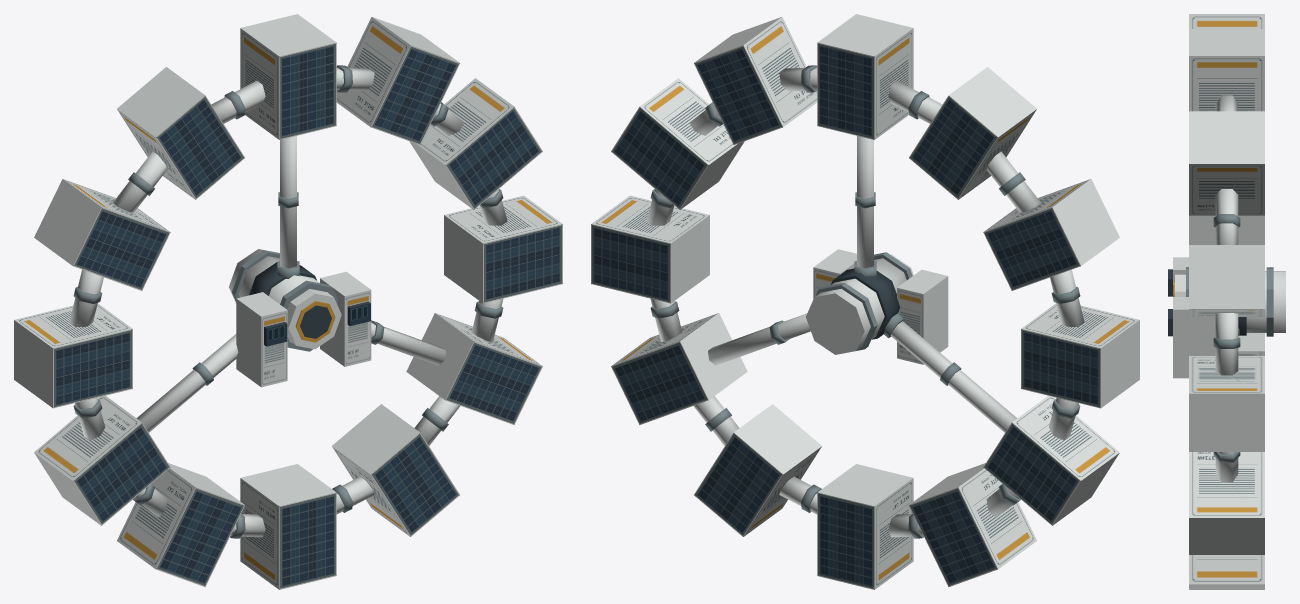
File: Space_Station_LOD2.glb
3 views of the same model, side by side, from view 1: azimuth 30°, elevation 25°; view 2: azimuth 150°, elevation 25°; view 3: azimuth 270°, elevation 25° (orthographic). The views are drawn at different scales.
Visible parts, largest first — view 1: Habitat_Ring.002, Station_Core.002; view 2: Habitat_Ring.002, Station_Core.002; view 3: Habitat_Ring.002, Station_Core.002.
Boxes of the visible parts, box(x1,y1,x2,y2) form: Habitat_Ring.002: box(14, 14, 562, 589); Station_Core.002: box(229, 249, 371, 387); Habitat_Ring.002: box(591, 14, 1139, 589); Station_Core.002: box(806, 249, 948, 364); Habitat_Ring.002: box(1189, 14, 1264, 589); Station_Core.002: box(1168, 257, 1285, 378).
Bounding box in the file's own units: 12.45 × 12.45 × 2.56.
Materials: 1 (1 with a texture image).
